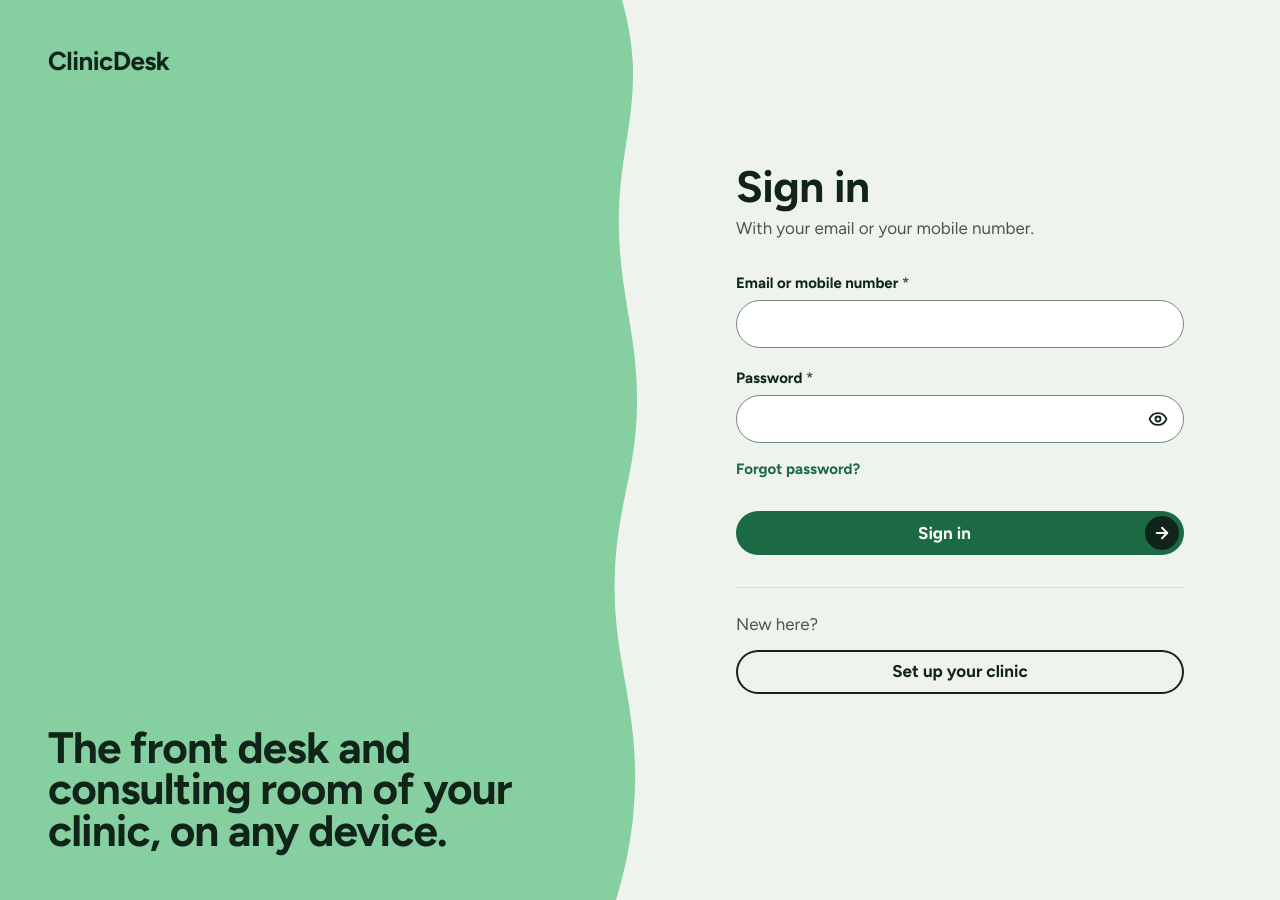
it: SignInScreen › says why it could not, in the API's words, with its reference
In the field labelled "Email or mobile number *": (960, 324) x1=736 y1=300 x2=1184 y2=348, type "asha@example.com"
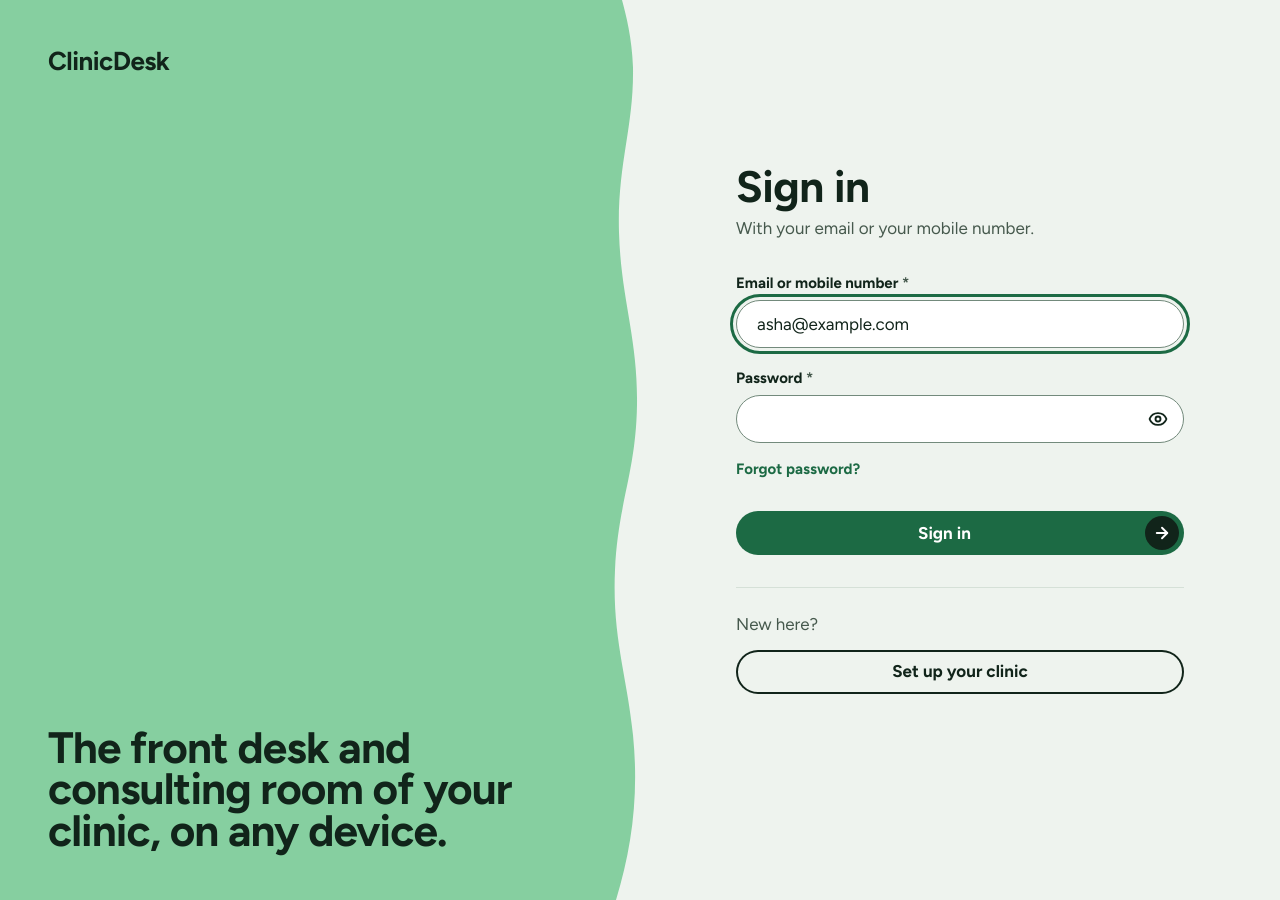
In the password field labelled "Password *": (960, 419) x1=736 y1=395 x2=1184 y2=443, type "wrong"
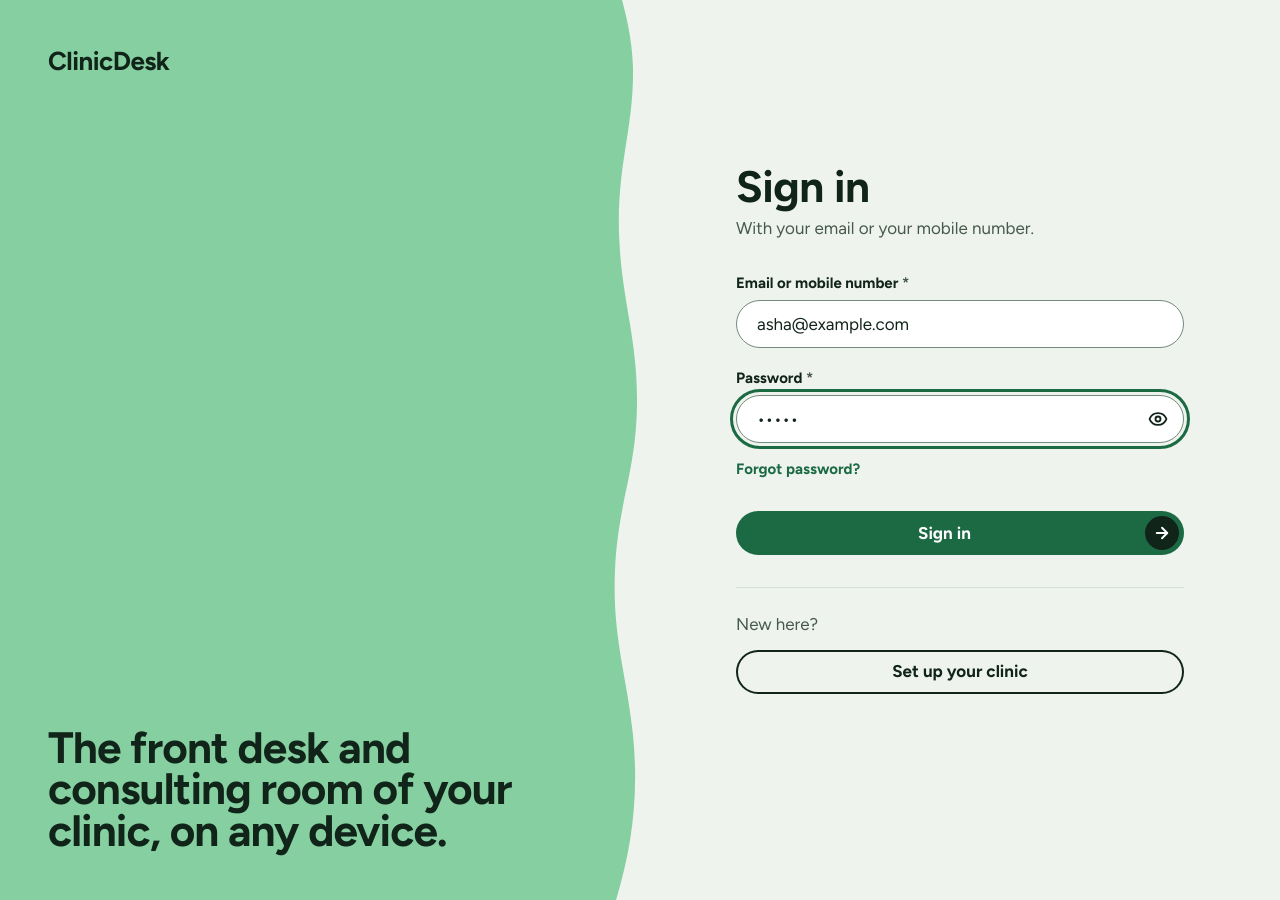
Click the button "Sign in": (960, 533) x1=736 y1=511 x2=1184 y2=555
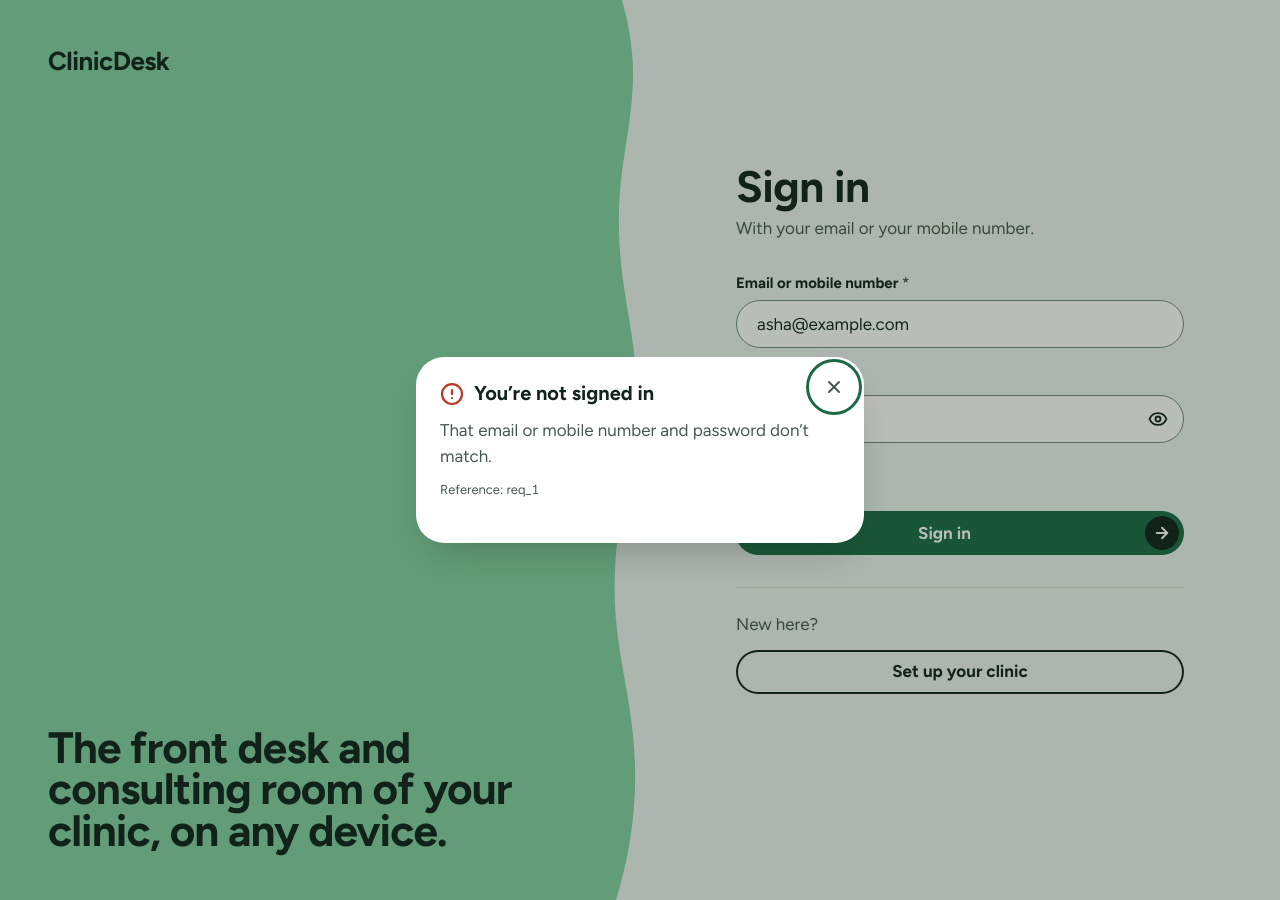
Now the dialog "You’re not signed in" shows "That email or mobile number and password don’t match.", box x1=440 y1=420 x2=809 y2=466
Now the dialog "You’re not signed in" shows "Reference: req_1", box x1=440 y1=482 x2=539 y2=497
